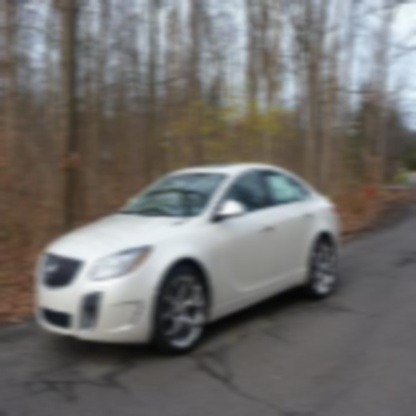Vehicle: (35, 162, 343, 360)
